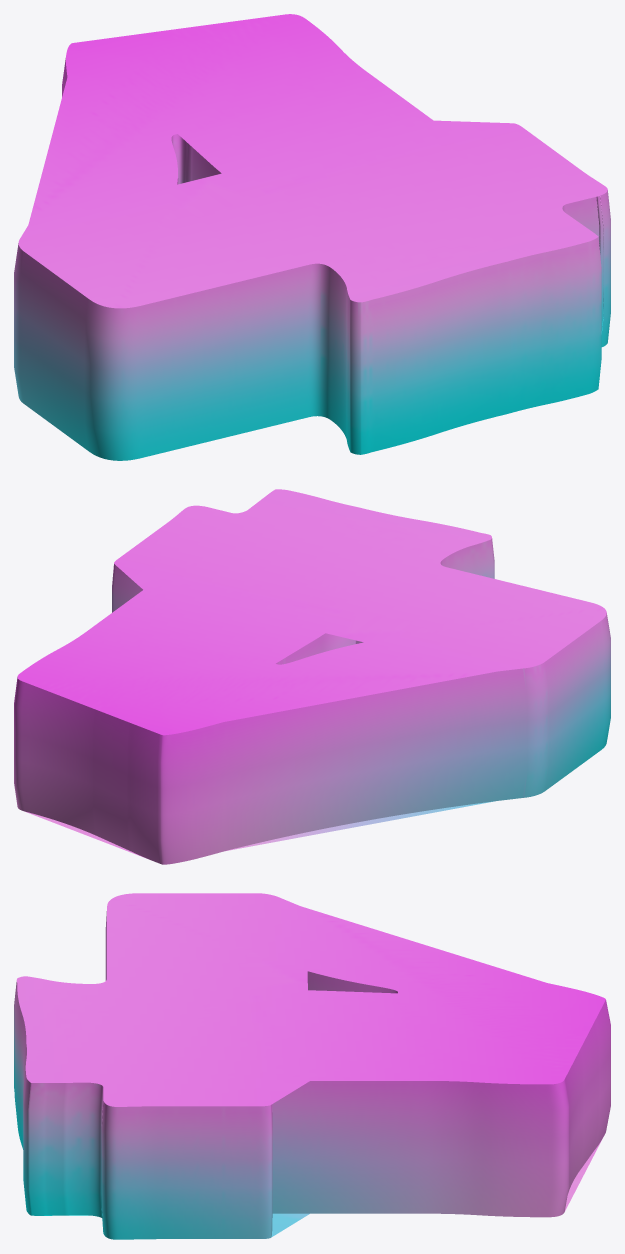
3 renders of one model, top to bottom at view 1: azimuth 30°, elevation 25°; view 2: azimuth 150°, elevation 25°; view 3: azimuth 270°, elevation 25°, orthographic. The views are drawn at different scales.
Parts seen in each view (by area): view 1: Curve.004; view 2: Curve.004; view 3: Curve.004.
Part boxes in pixels (bbox=[...]): Curve.004: bbox=[14, 14, 610, 460]; Curve.004: bbox=[14, 489, 610, 864]; Curve.004: bbox=[14, 893, 610, 1239].
Bounding box in the file's own units: 39.71 × 11.36 × 46.26.
Materials: 1 (1 with a texture image).
